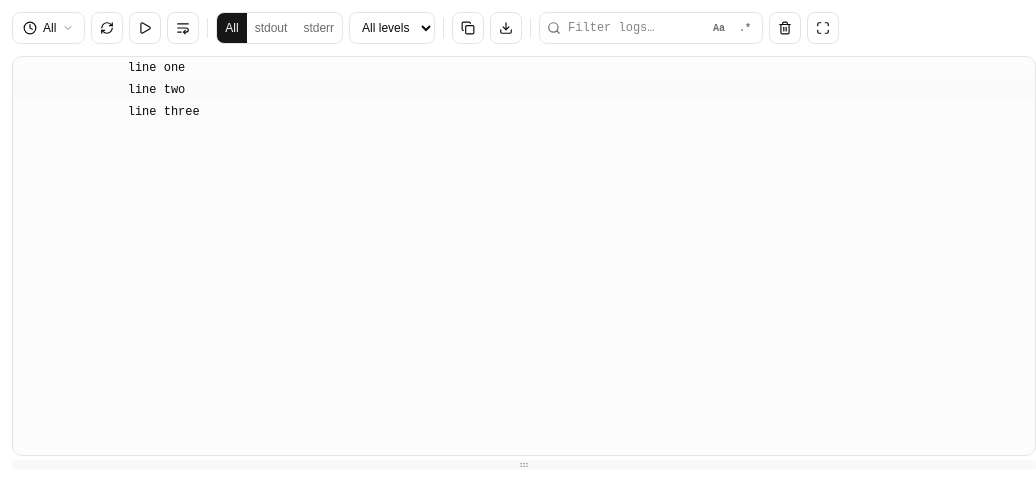
Scenario: LogViewer › filters logs by search
Expected: the text "line one" is shown, [128,57,1035,79]
In the field with placeholder "Filter logs…": (651, 28) [539,12,763,44], type "two"
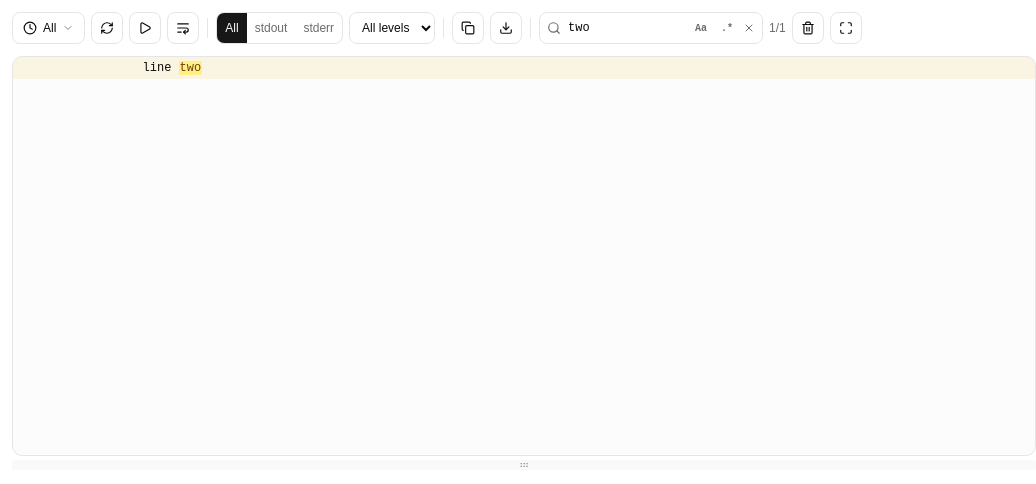
Expected: the text "two" is shown, [179,61,202,75]
Expected: the text "line one" is gone
Expected: the text "1/1" is shown, [769,20,786,36]
